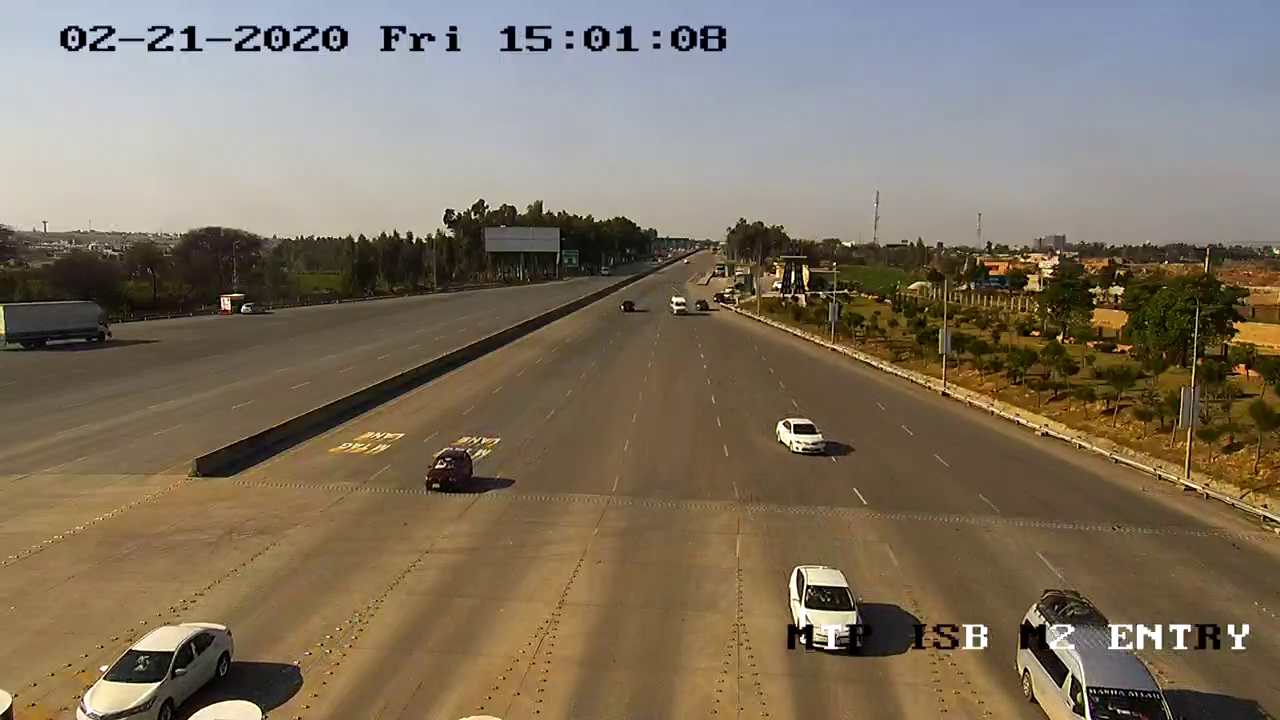f1: (63, 600, 243, 720), (763, 404, 842, 461), (417, 443, 486, 497)
